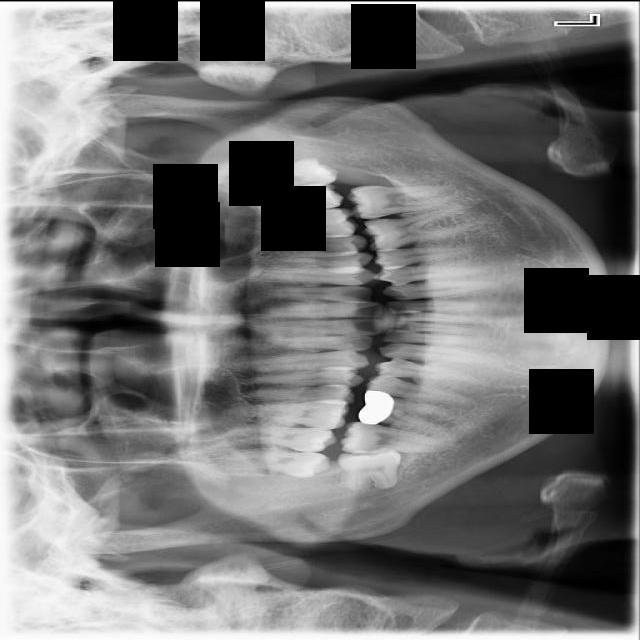3M ESPE Implant: (213, 444, 332, 479)
52: (280, 153, 341, 190), (355, 385, 402, 432), (289, 178, 346, 213), (300, 397, 350, 429), (287, 425, 339, 453), (372, 202, 376, 204)
73: (578, 22, 596, 33)
BioHorizons Implant: (201, 180, 347, 218)
BioLife Implant: (204, 153, 341, 201)
Blue Sky Bio Implant: (347, 182, 463, 219)
Caries: (204, 420, 339, 453)
Implant: (340, 420, 449, 456)
Keystone Dental Implant: (336, 442, 407, 496)
